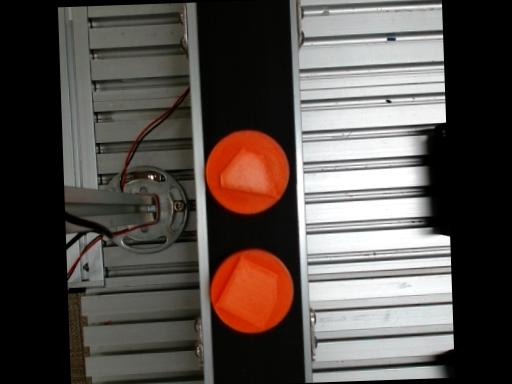Not_Square: (217, 252, 278, 329), (219, 145, 278, 197)
Orange_Waper: (206, 128, 289, 212), (211, 247, 293, 332)
